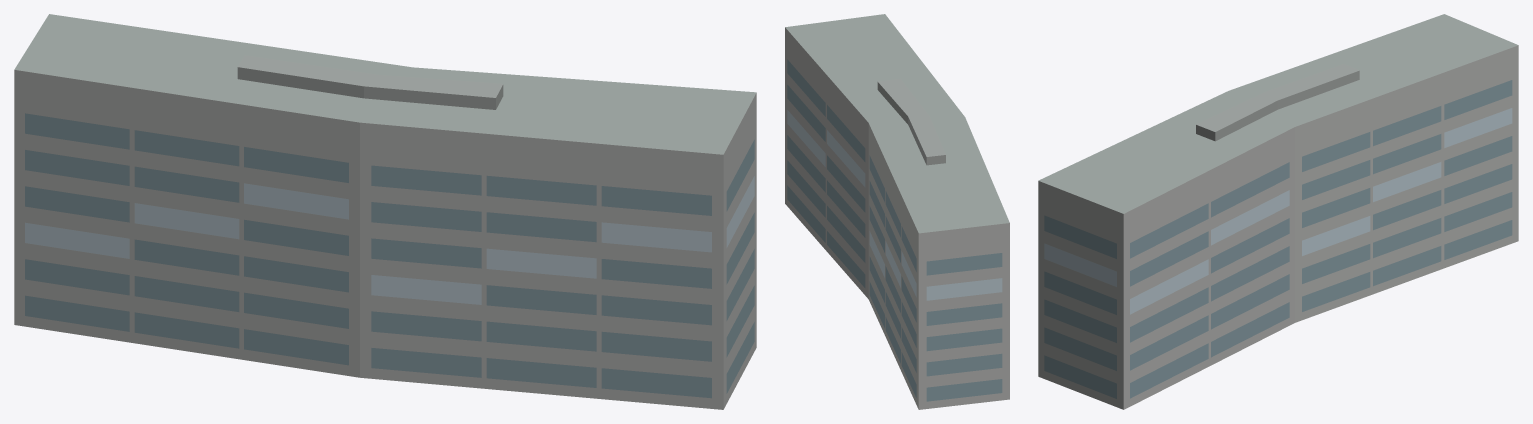
The model's file is fallback-dmc-raemian-e-pyeonhansesang-213.glb.
3 views of the same model, side by side, from view 1: azimuth 30°, elevation 25°; view 2: azimuth 150°, elevation 25°; view 3: azimuth 270°, elevation 25° (orthographic). The views are drawn at different scales.
Visible parts, largest first — view 1: fallback-dmc-raemian-e-pyeonhansesang-213; view 2: fallback-dmc-raemian-e-pyeonhansesang-213; view 3: fallback-dmc-raemian-e-pyeonhansesang-213.
Boxes of the visible parts, left/top/right/bottom form: fallback-dmc-raemian-e-pyeonhansesang-213: left=14, top=14, right=756, bottom=409; fallback-dmc-raemian-e-pyeonhansesang-213: left=785, top=14, right=1009, bottom=409; fallback-dmc-raemian-e-pyeonhansesang-213: left=1038, top=14, right=1518, bottom=409.
Bounding box in the file's own units: 43.9 × 21 × 44.57.
